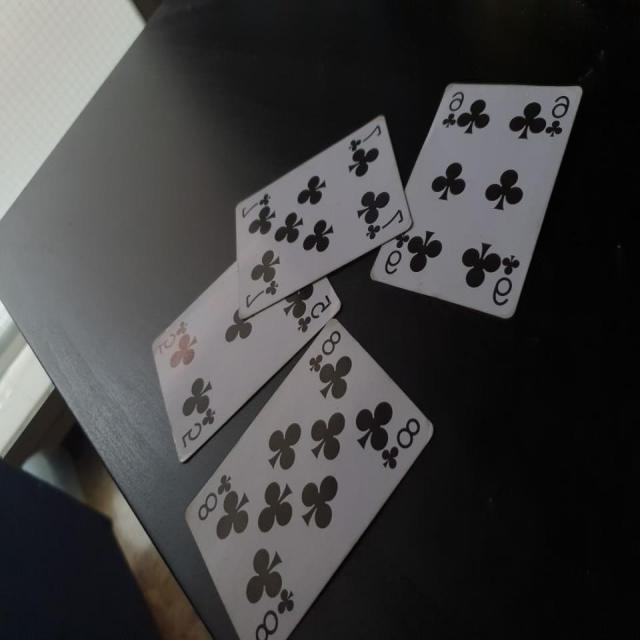5 of clubs: (148, 258, 342, 464)
6 of clubs: (370, 82, 586, 324)
7 of clubs: (232, 114, 414, 318)
8 of clubs: (187, 319, 434, 640)
